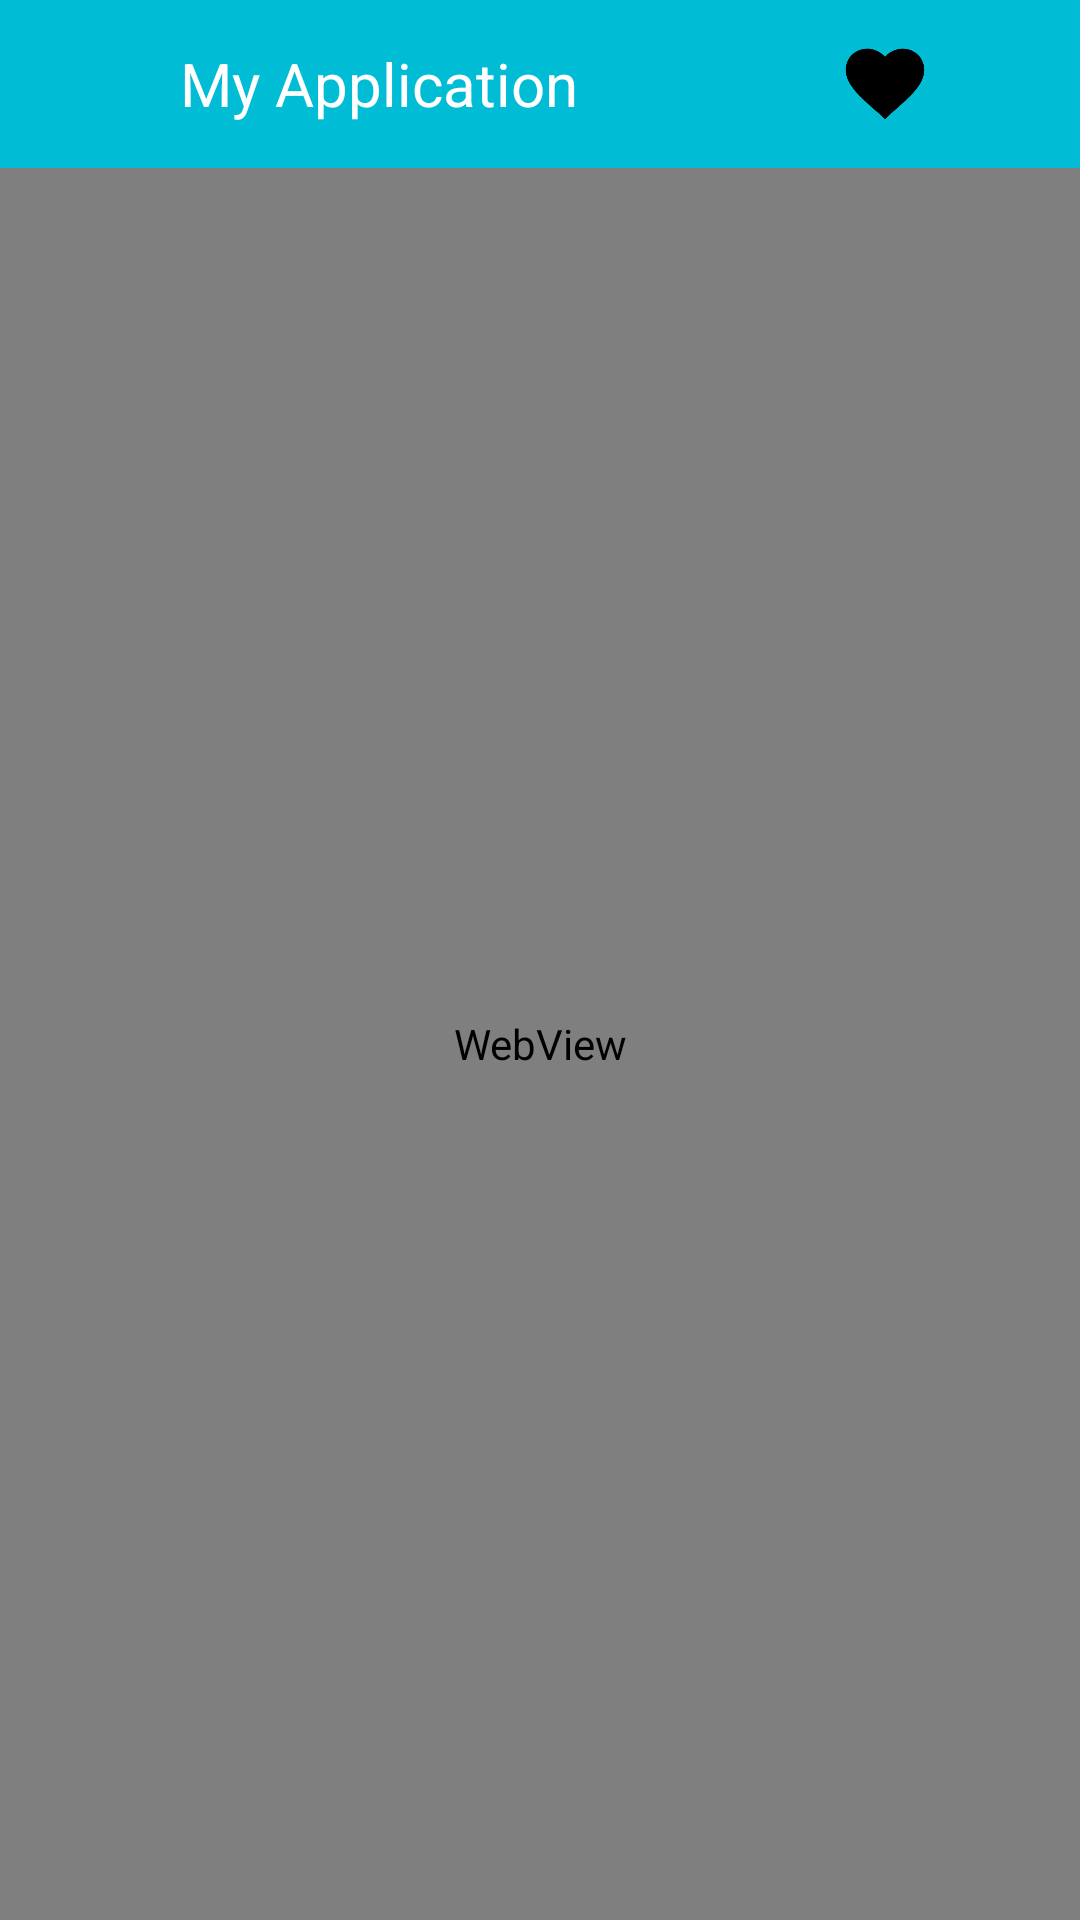

Icons on this 1080px x 1920px Android screen, each with the point to tap as (x=x, y=y):
collect: (x=885, y=83)
